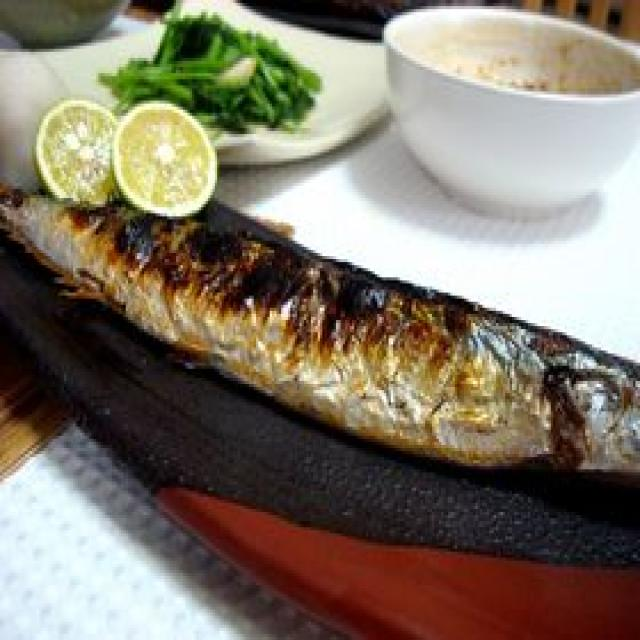熟制海鲜: (0, 152, 640, 478)
